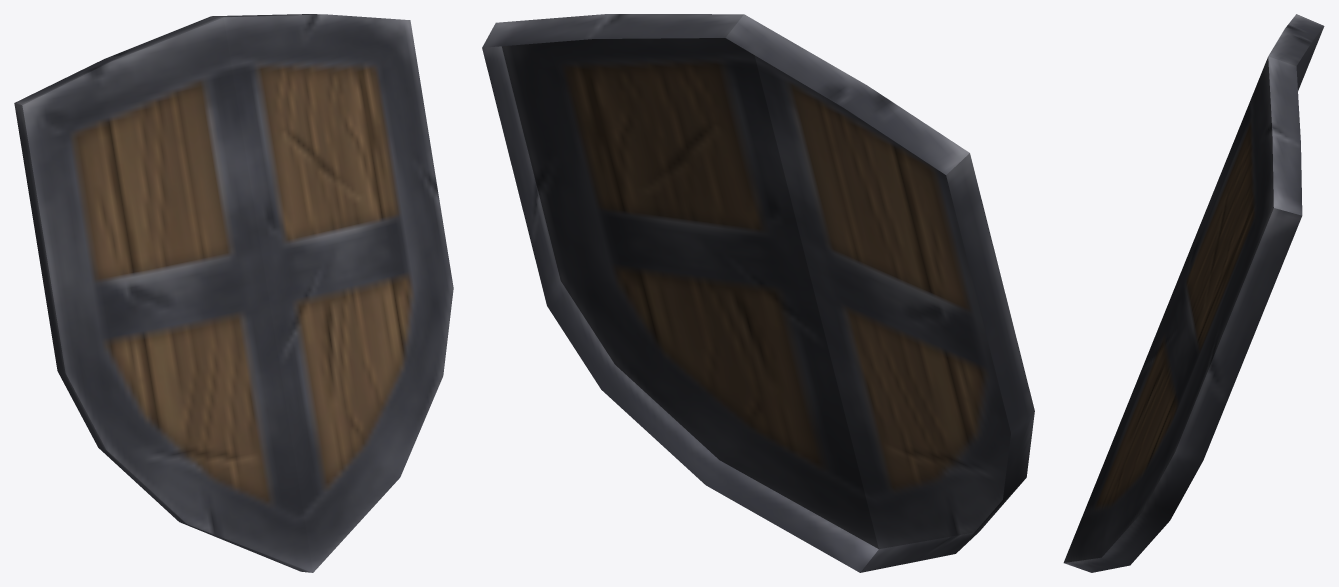
The model's file is Camp1_Shield.fbx.
3 renders of one model, left to right at view 1: azimuth 30°, elevation 25°; view 2: azimuth 150°, elevation 25°; view 3: azimuth 270°, elevation 25°, orthographic. The views are drawn at different scales.
Visible parts, largest first — view 1: Camp_01_pPlane1; view 2: Camp_01_pPlane1; view 3: Camp_01_pPlane1.
Boxes of the visible parts, left/top/right/bottom form: Camp_01_pPlane1: left=14, top=14, right=453, bottom=572; Camp_01_pPlane1: left=482, top=14, right=1034, bottom=572; Camp_01_pPlane1: left=1063, top=14, right=1324, bottom=572.
Bounding box in the file's own units: 74.43 × 91.8 × 41.78.
Materials: 1 (1 with a texture image).
